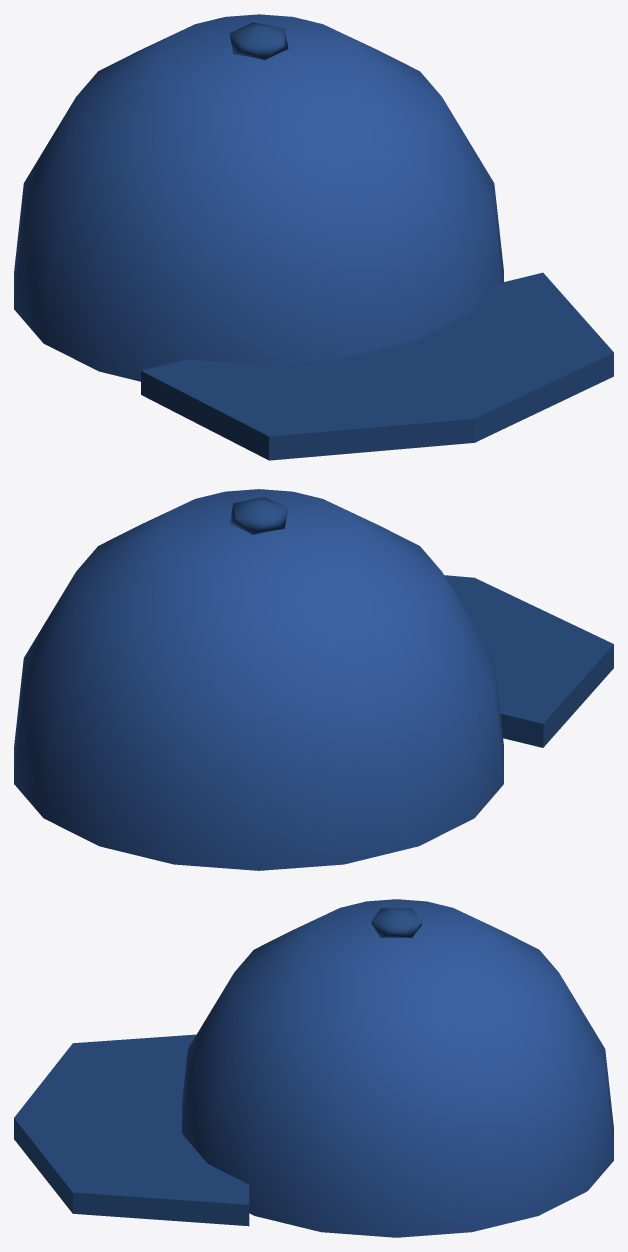
File: item_ic_lost_cap.glb
3 views of the same model, one above another, from view 1: azimuth 30°, elevation 25°; view 2: azimuth 150°, elevation 25°; view 3: azimuth 270°, elevation 25° (orthographic). The views are drawn at different scales.
Visible parts, largest first — view 1: item_ic_lost_cap_main; view 2: item_ic_lost_cap_main; view 3: item_ic_lost_cap_main.
Boxes of the visible parts, x1,y1,x2,y2 form: item_ic_lost_cap_main: (14, 14, 613, 460); item_ic_lost_cap_main: (14, 489, 613, 870); item_ic_lost_cap_main: (14, 899, 613, 1237).
Bounding box in the file's own units: 0.15 × 0.088 × 0.2039.
